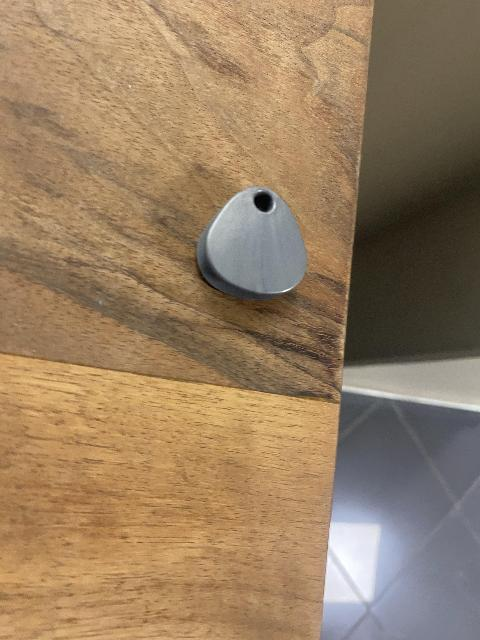Plastik: (205, 181, 308, 303)
